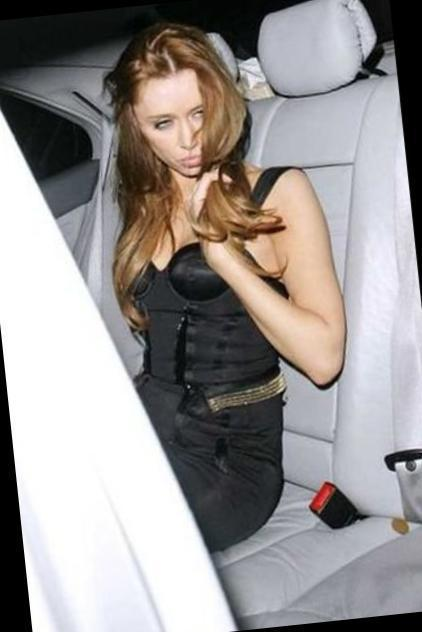Drunk: (136, 72, 214, 177)
